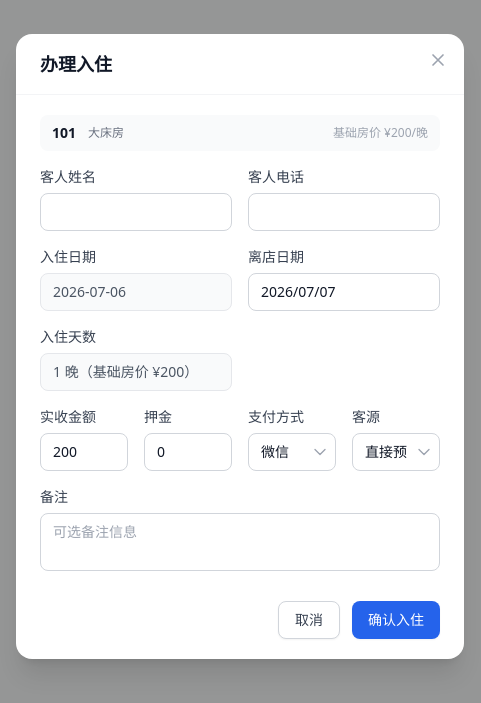
it: CheckInDialog › shows error when guest name is empty on save
Click the button "确认入住". click: [396, 620]
box: [352,600,440,638]
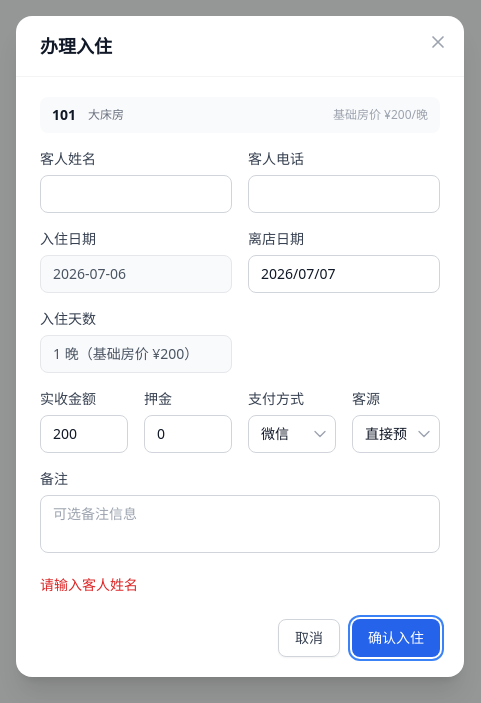
Result: the text "请输入客人姓名" is shown at [40,574,138,594]
